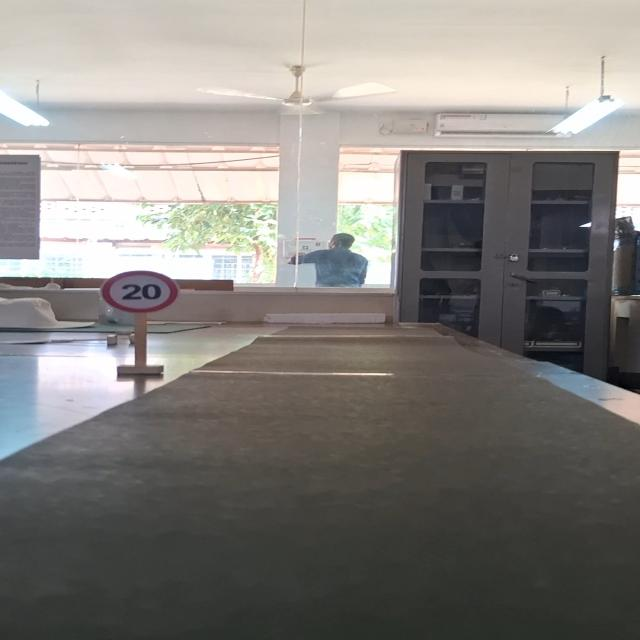Speed20: (100, 270, 180, 314)
